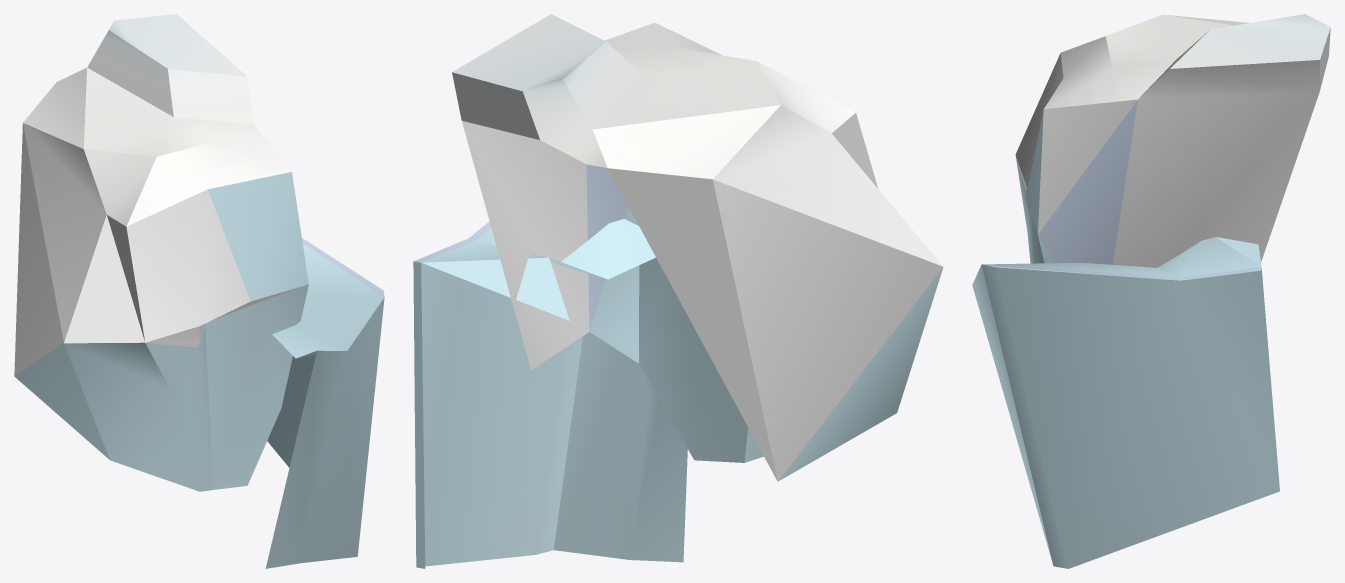
The model's file is Iceberg.glb.
3 renders of one model, left to right at view 1: azimuth 30°, elevation 25°; view 2: azimuth 150°, elevation 25°; view 3: azimuth 270°, elevation 25°, orthographic. The views are drawn at different scales.
Visible parts, largest first — view 1: Iceberg; view 2: Iceberg; view 3: Iceberg.
Boxes of the visible parts, x1=… form: Iceberg: x1=14, y1=14, x2=384, y2=568; Iceberg: x1=413, y1=14, x2=943, y2=568; Iceberg: x1=972, y1=14, x2=1330, y2=568.
Bounding box in the file's own units: 9.75 × 14.7 × 9.8.
Materials: 1 (1 with a texture image).
